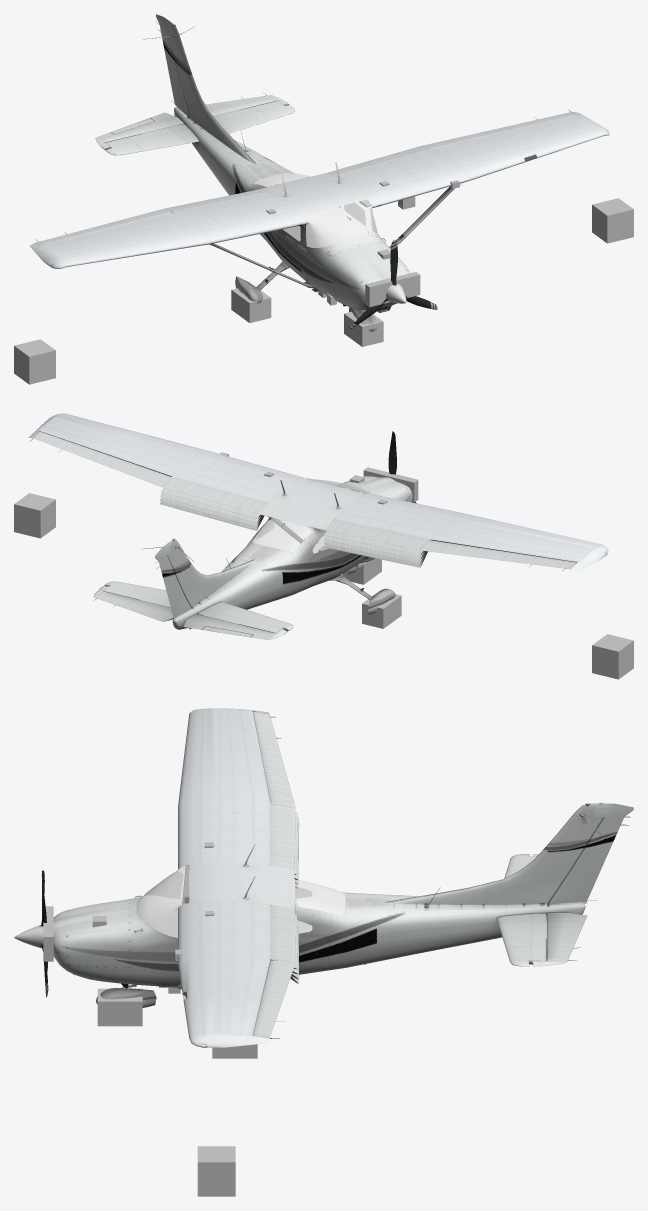
The picture shows the model from 3 angles, top to bottom: view 1: azimuth 30°, elevation 25°; view 2: azimuth 150°, elevation 25°; view 3: azimuth 270°, elevation 25°; orthographic projection. The views are drawn at different scales.
Parts seen in each view (by area): view 1: Exterior, Pose_flaps_0, Spin_0; view 2: Exterior, Pose_flaps_0, Pose_flaps_1, Pose_flaps_2, Pose_flaps_3, Pose_flaps_4; view 3: Exterior, Pose_flaps_0.
Boxes of the visible parts, x1,y1,x2,y2 form: Exterior: (14,14,633,384); Pose_flaps_0: (164,145,431,212); Spin_0: (348,239,437,329); Exterior: (14,413,633,679); Pose_flaps_0: (162,476,431,550); Pose_flaps_1: (161,488,424,555); Pose_flaps_2: (160,492,425,559); Pose_flaps_3: (160,497,425,564); Pose_flaps_4: (160,501,427,567); Exterior: (14,708,633,1196); Pose_flaps_0: (270,803,295,963).
Size of the model in its own units: 11.84 by 3.27 by 8.5.
Materials: 10 (6 with a texture image).
